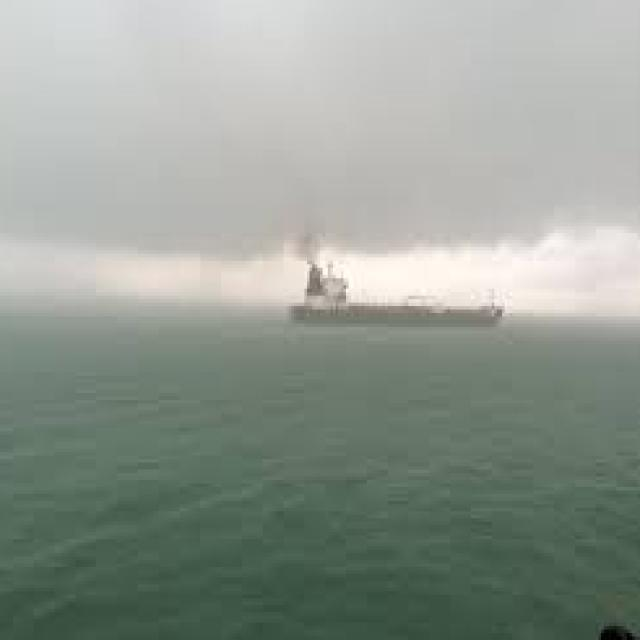cargoship: (286, 253, 514, 332)
